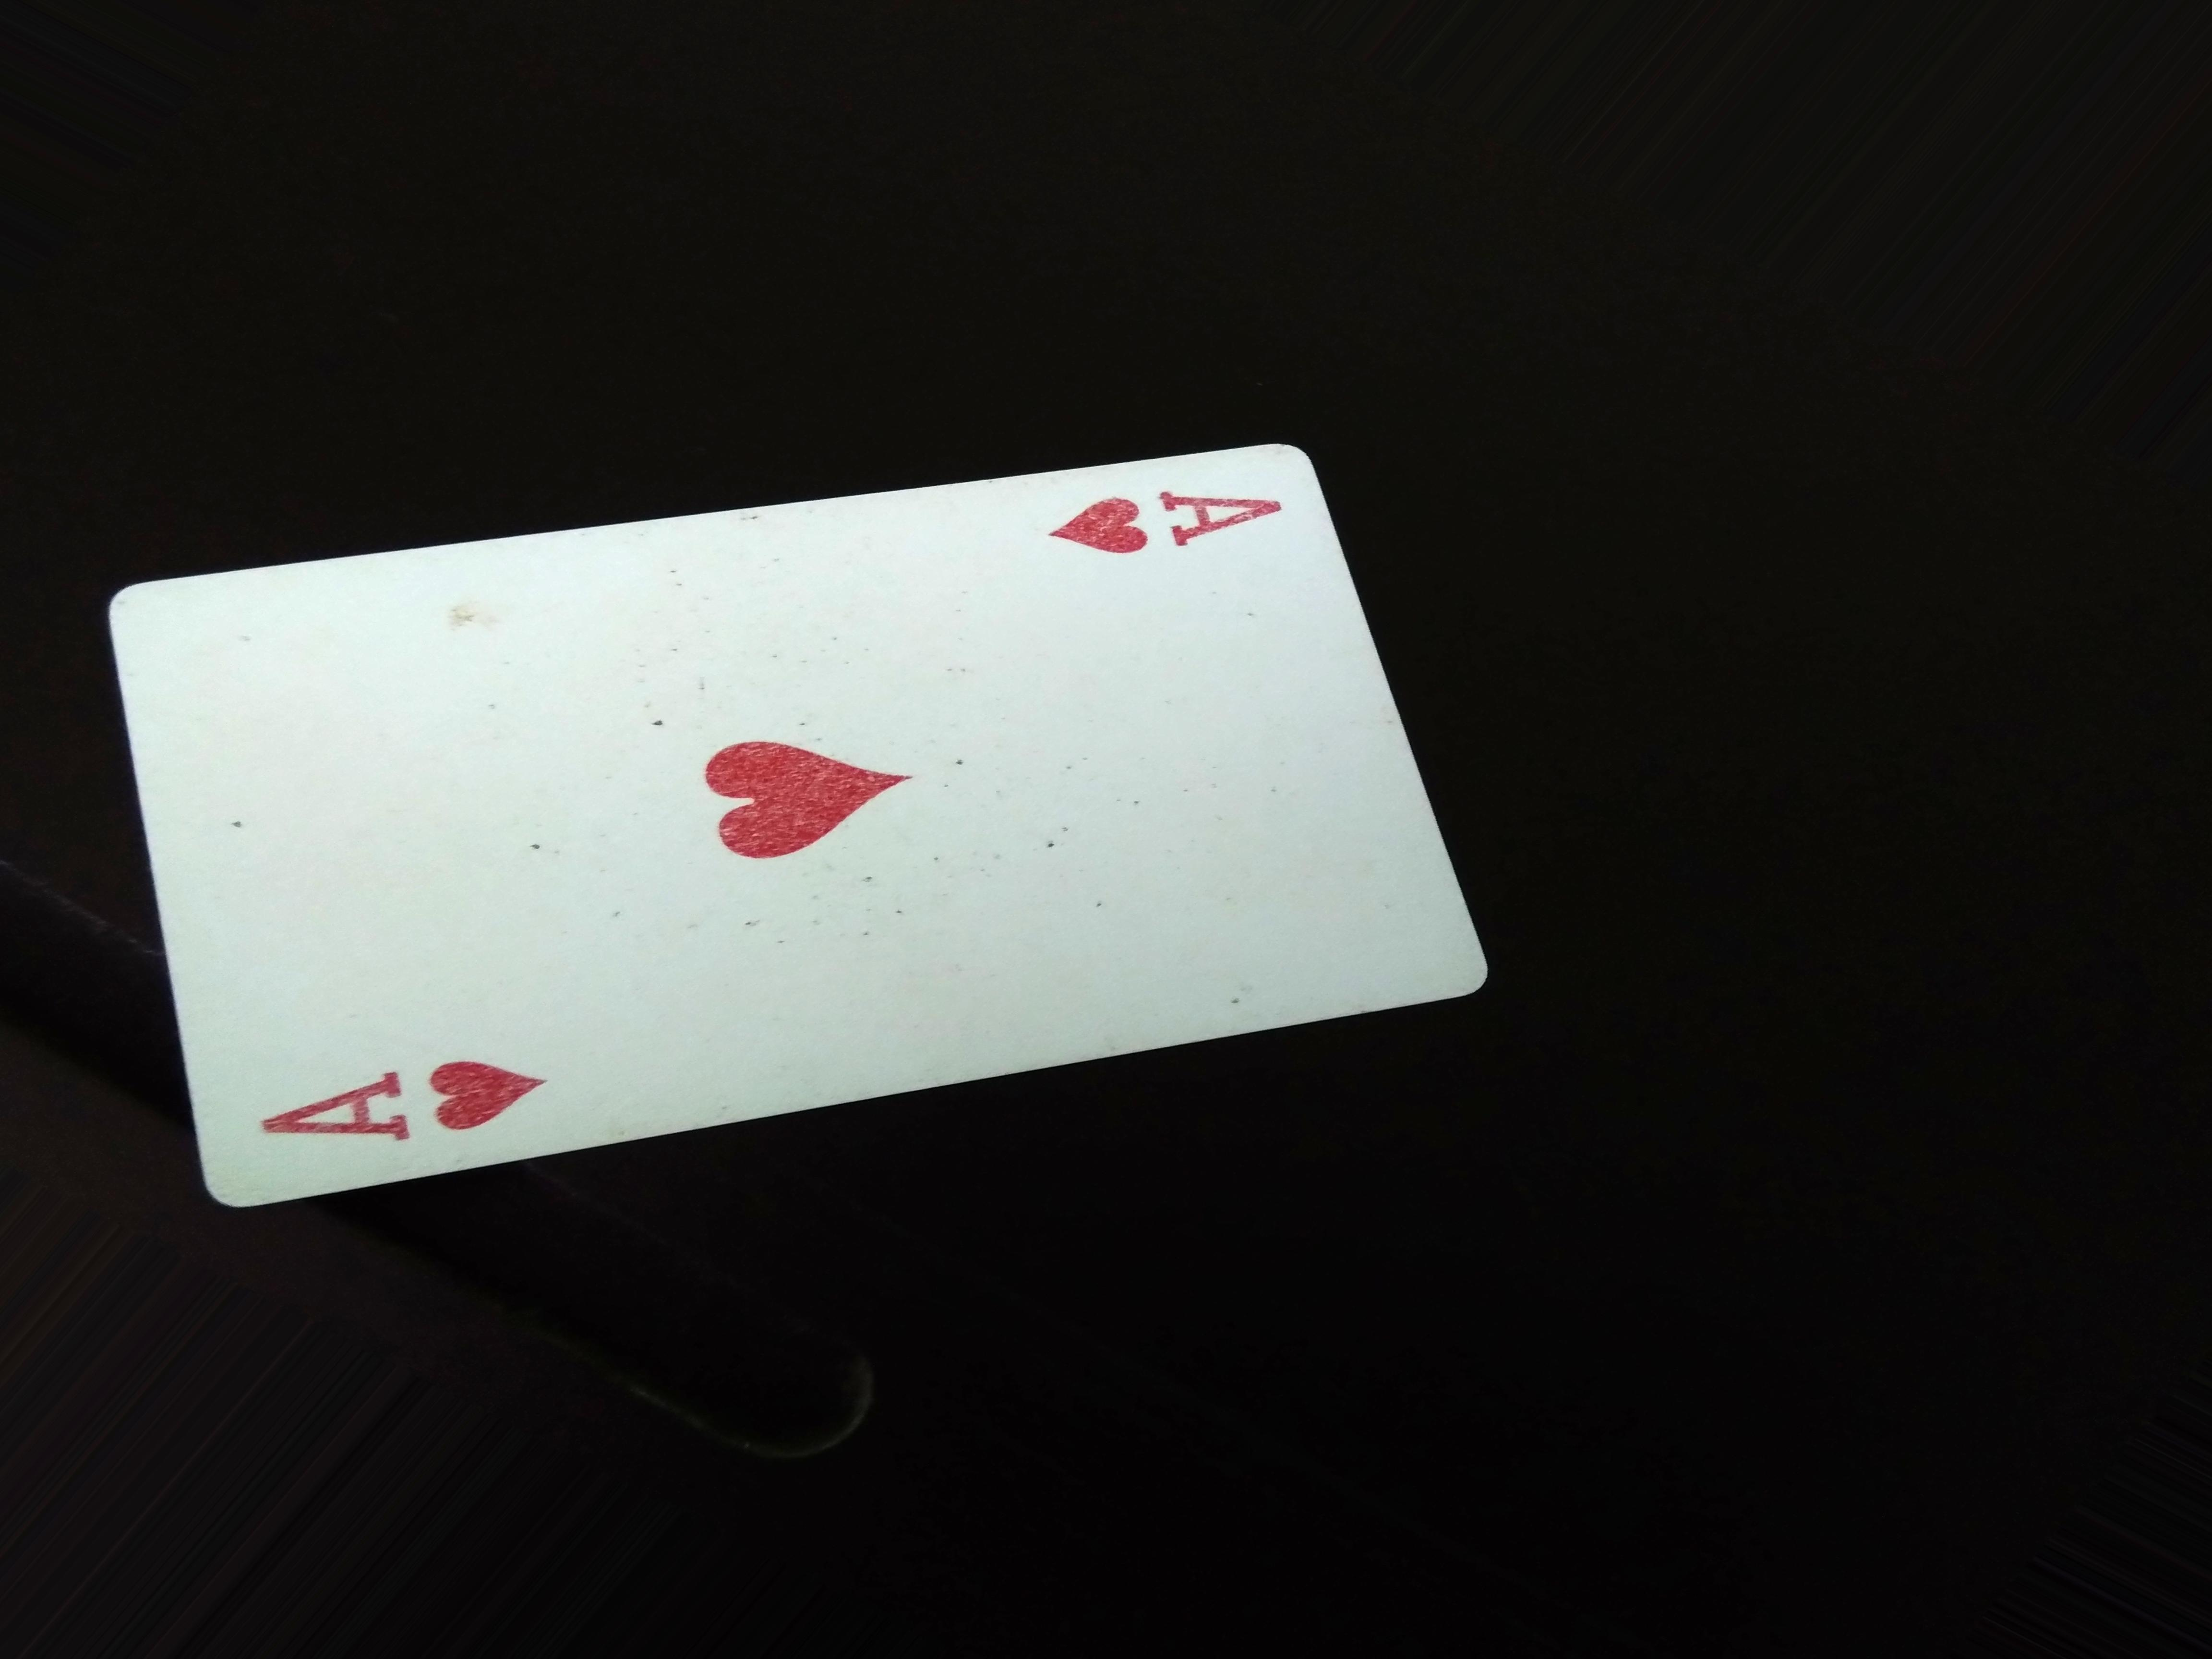AH: (240, 1068, 552, 1141)
